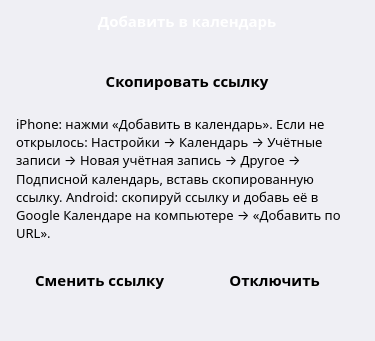
раздел «Календарь» › «Отмена» у подтверждения не зовёт createCalendarLink
Click the button "Сменить ссылку". click: (100, 280)
box: [16, 258, 183, 302]
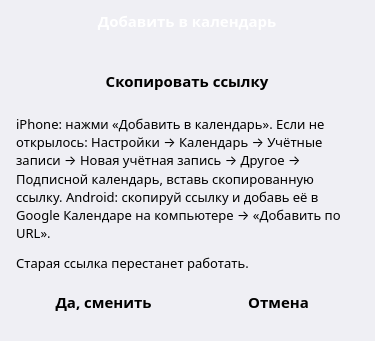
Click the button "Отмена". click: (278, 302)
box: [199, 280, 358, 324]
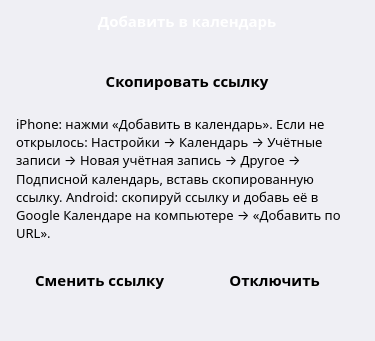
Check: the text "Сменить ссылку" is shown, box [16, 258, 183, 302]
